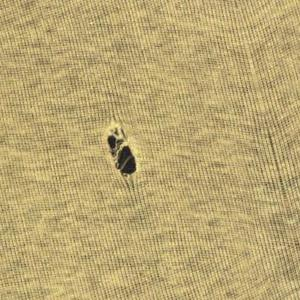hole: (104, 124, 137, 185)
